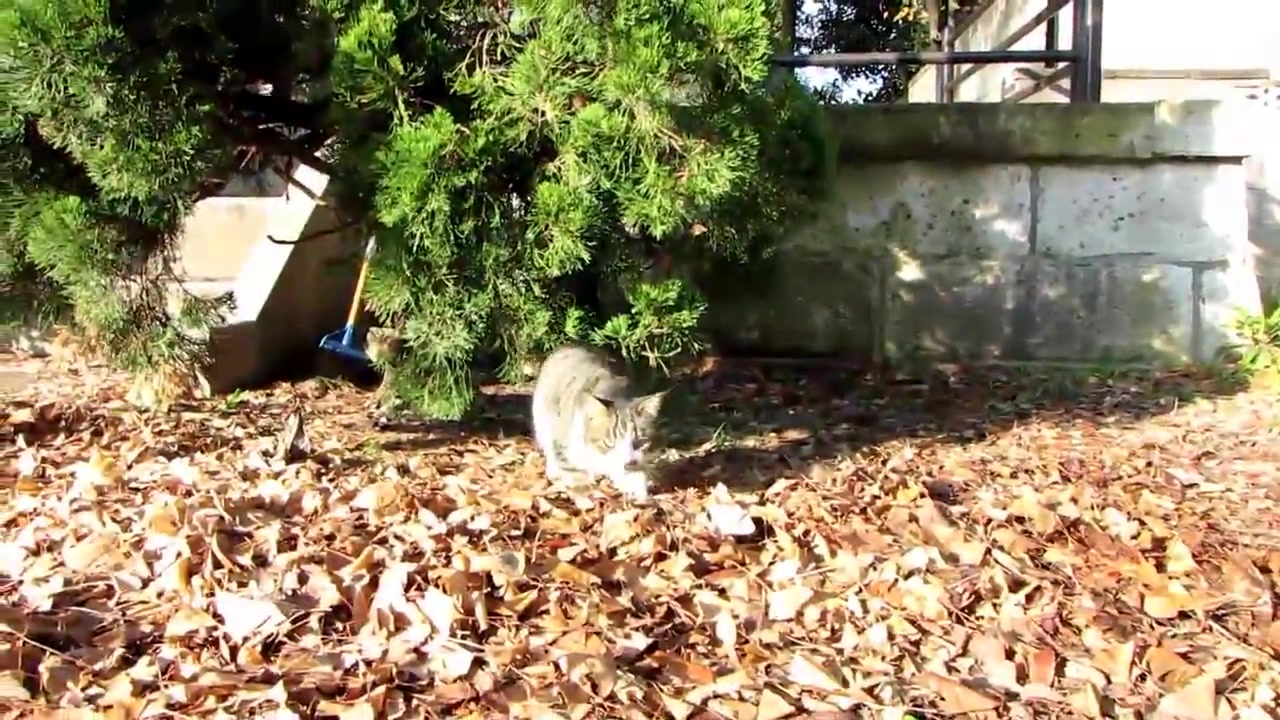cat: (533, 343, 675, 508)
